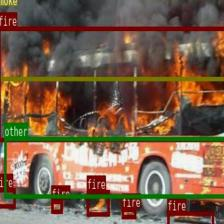fire: (0, 26, 224, 141), (86, 189, 110, 216), (166, 211, 214, 224), (0, 187, 15, 207), (122, 207, 135, 218), (51, 199, 62, 212)
smoke: (0, 0, 224, 79)
